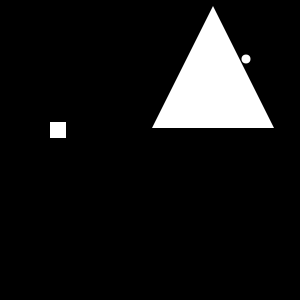circle: (50, 122, 66, 138)
rectangle: (241, 54, 250, 64)
triangle: (152, 6, 274, 128)
